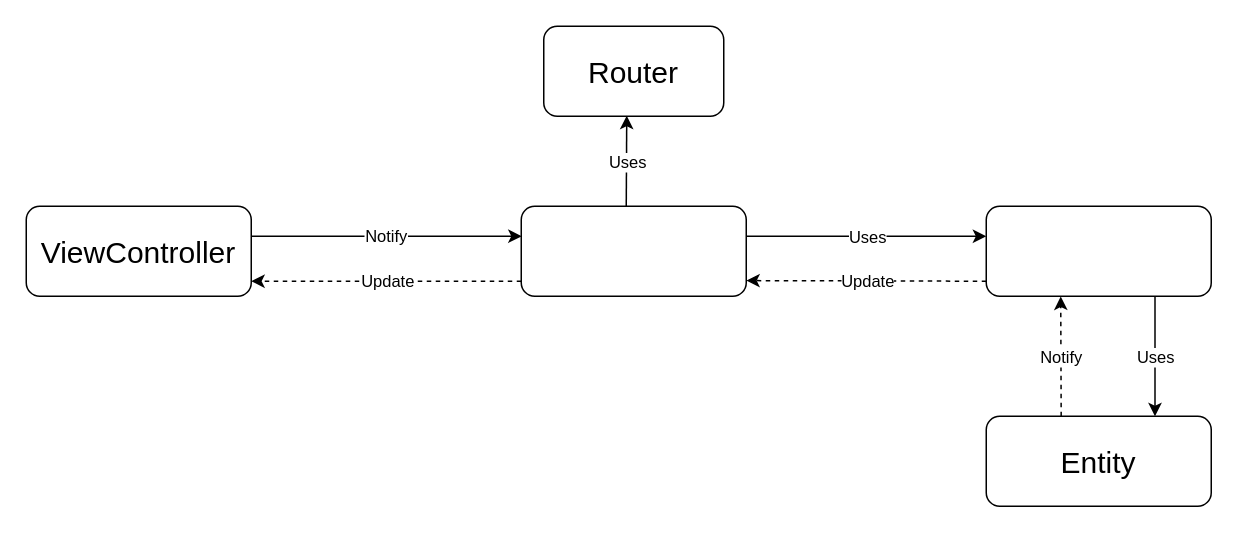
Image size: 1238x533. Some labels were removed from this diagram. The centre of each missing label's shape, as x and y in pixels:
Interactor: the point at 1098,250
Presenter: the point at 633,250
